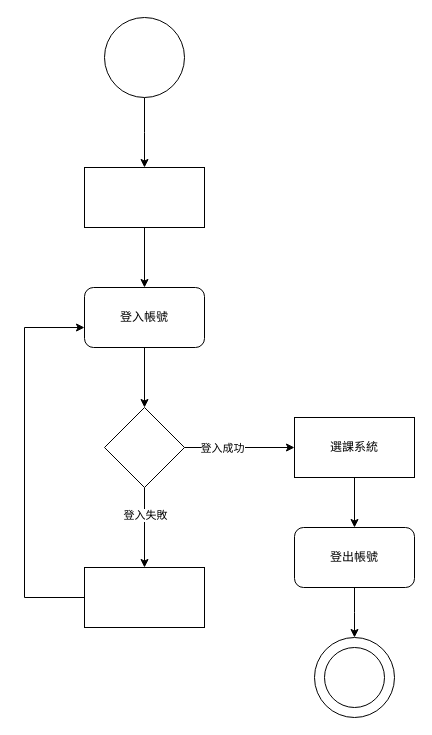
Some shapes in this 432 by 735 pixel diagram are drawn without their labels. The box of each missing label's shape, as (x1, y1, x2, y2) in pixels:
帳號不存在或是密碼錯誤: (84, 566, 204, 628)
登入系統: (84, 166, 204, 228)
